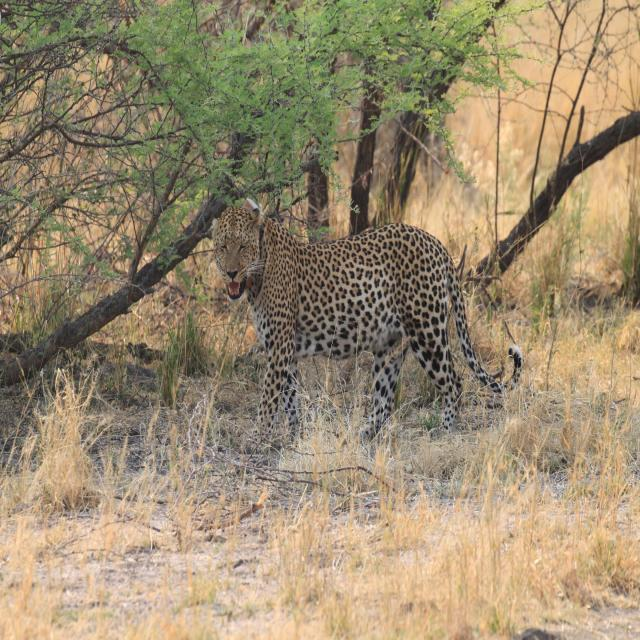Leopard: (203, 202, 538, 472)
